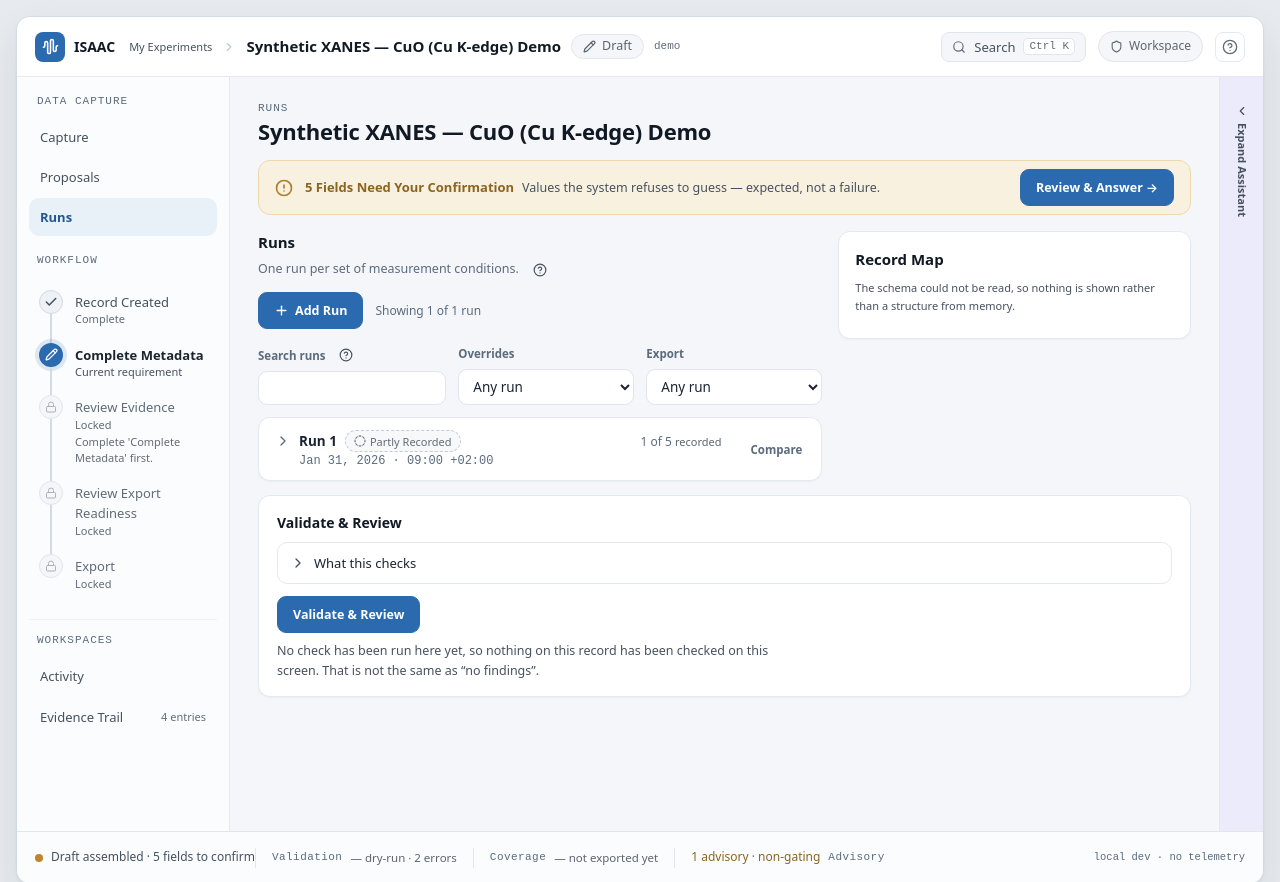
Test: the ISO text path is there for what the picker cannot hold › MUTATION-GUARDED: an OFFSET value opens the text path and disables the picker
Check: the button "Add Run" is shown, box [258,292,363,330]
Click the button that starts with "Run 1": x=291, y=458 [259,418,738,480]
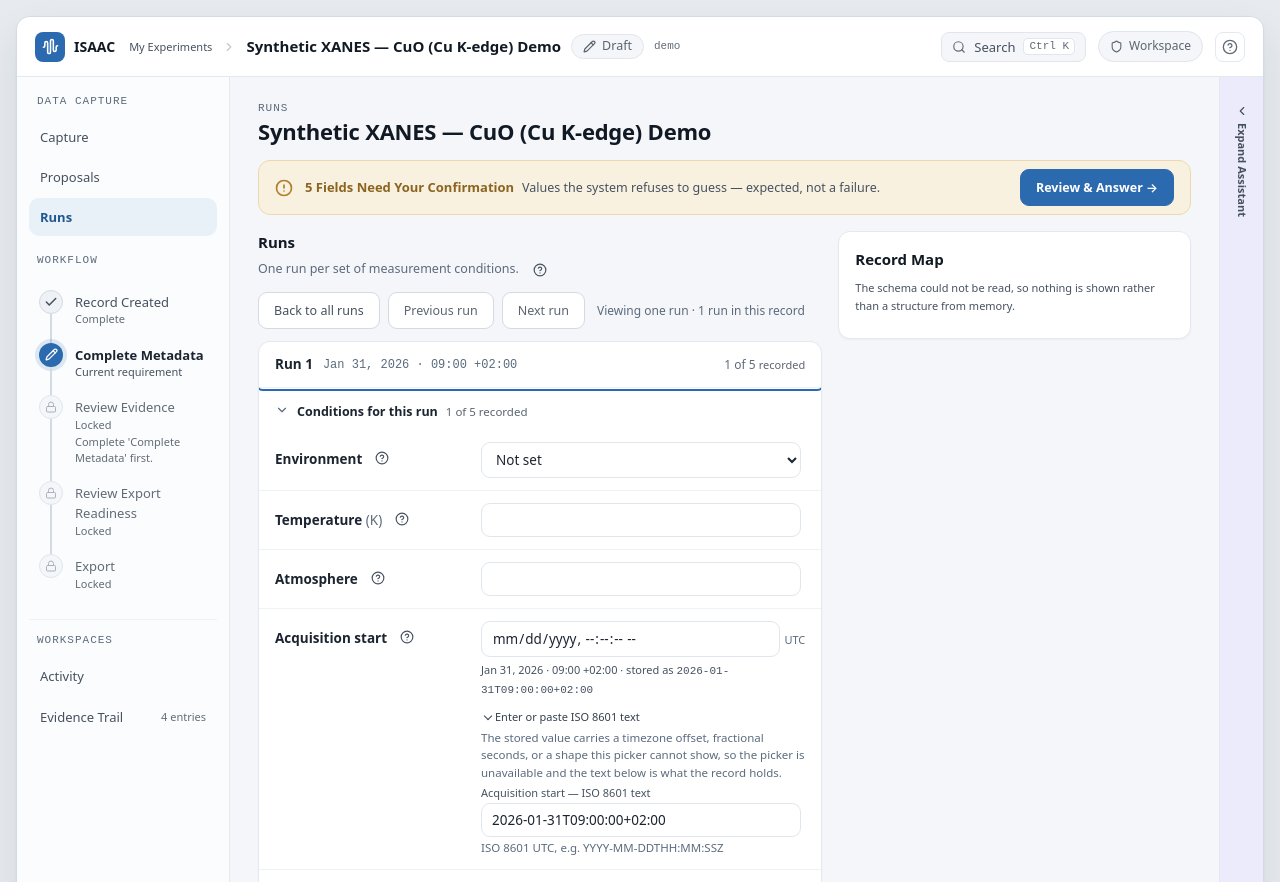
Check: the element that starts with "Enter or paste ISO 8601 text" shows "timezone offset", box [481,730,804,780]
Check: the element with class "run-field-readback" shows "Jan 31, 2026 · 09:00 +02:00", box [481,662,618,677]
